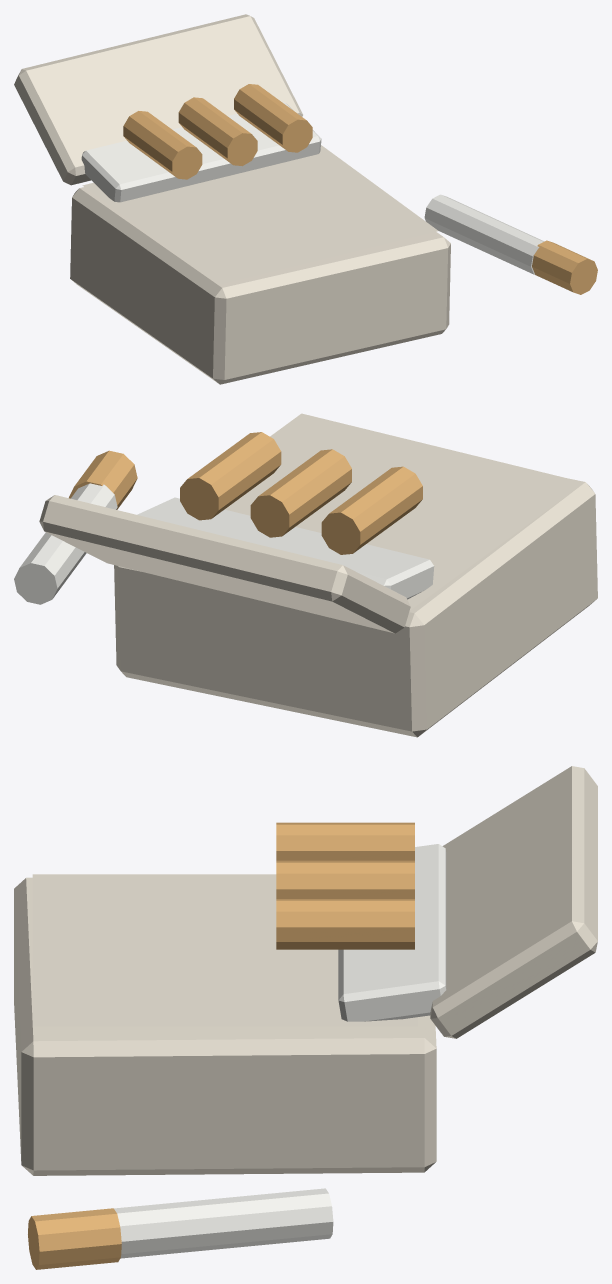
File: cigarette.glb
3 renders of one model, top to bottom at view 1: azimuth 30°, elevation 25°; view 2: azimuth 150°, elevation 25°; view 3: azimuth 270°, elevation 25°, orthographic. The views are drawn at different scales.
Parts seen in each view (by area): view 1: cigarette; view 2: cigarette; view 3: cigarette.
Boxes of the visible parts, <box> form: cigarette: <box>14,14,597,384</box>; cigarette: <box>14,413,597,737</box>; cigarette: <box>14,766,597,1269</box>.
Bounding box in the file's own units: 0.1073 × 0.0466 × 0.097.
